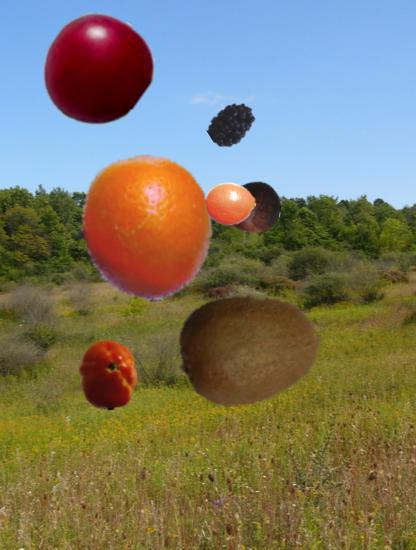Cherry: (40, 13, 153, 126)
Chestnut: (224, 178, 281, 235)
Kiwi: (177, 277, 324, 424)
Mulberry: (207, 100, 258, 151)
Tangelo: (71, 155, 219, 303), (206, 179, 257, 230)
Tomato: (73, 339, 144, 410)
